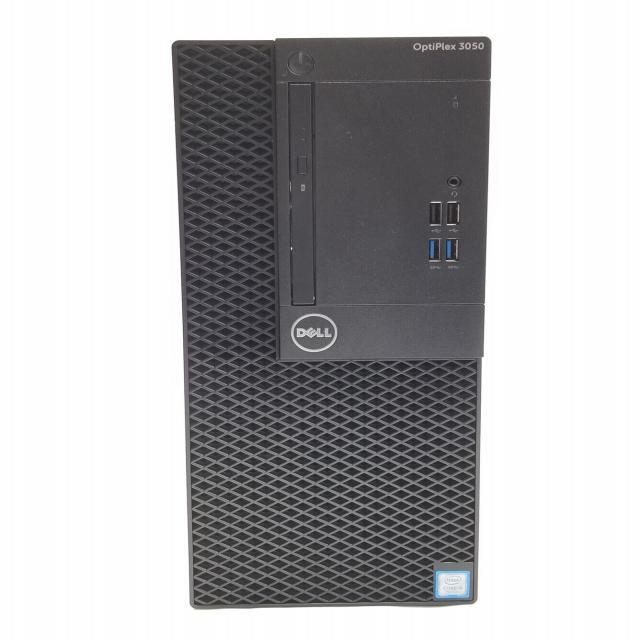Desktop-PC: (160, 28, 504, 622)
